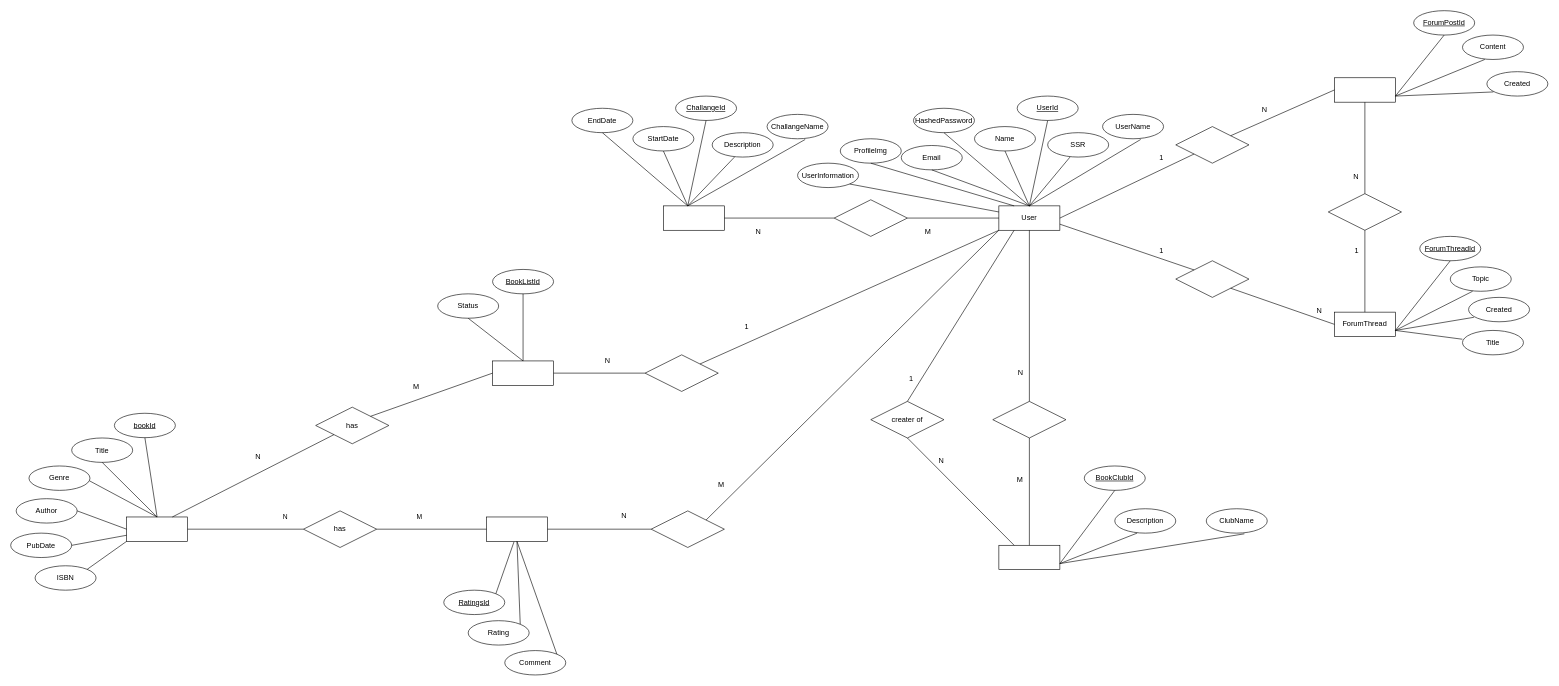
This 1559x686 diagram has some shape labels left out. Each missing label, with the centre of its shape:
belong to: the point at 1364,211
Book: the point at 157,528
BookClub: the point at 1029,557
BookList: the point at 523,372
by: the point at 687,528
creat: the point at 1212,278
create: the point at 681,372
ForumPost: the point at 1364,89
member of: the point at 1029,419
participate in: the point at 870,217
Ratings: the point at 516,528
ReadingChallange: the point at 693,217
writes: the point at 1212,144
